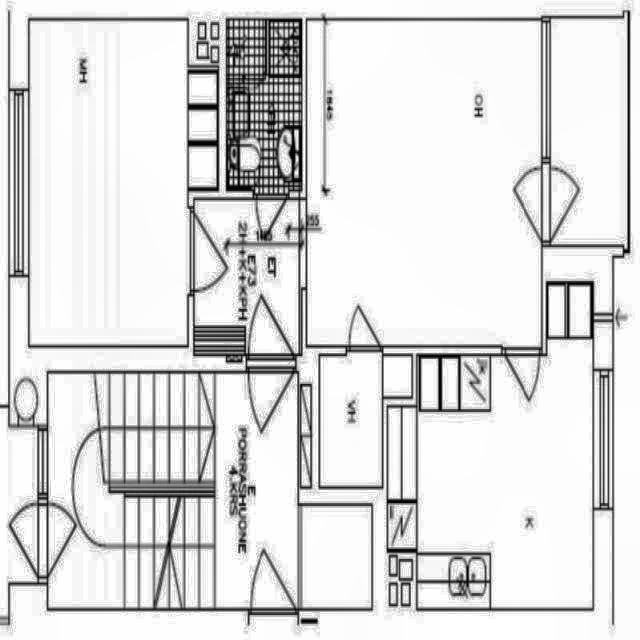room: (308, 22, 540, 344), (48, 375, 298, 606), (30, 23, 186, 343), (419, 340, 592, 606)
